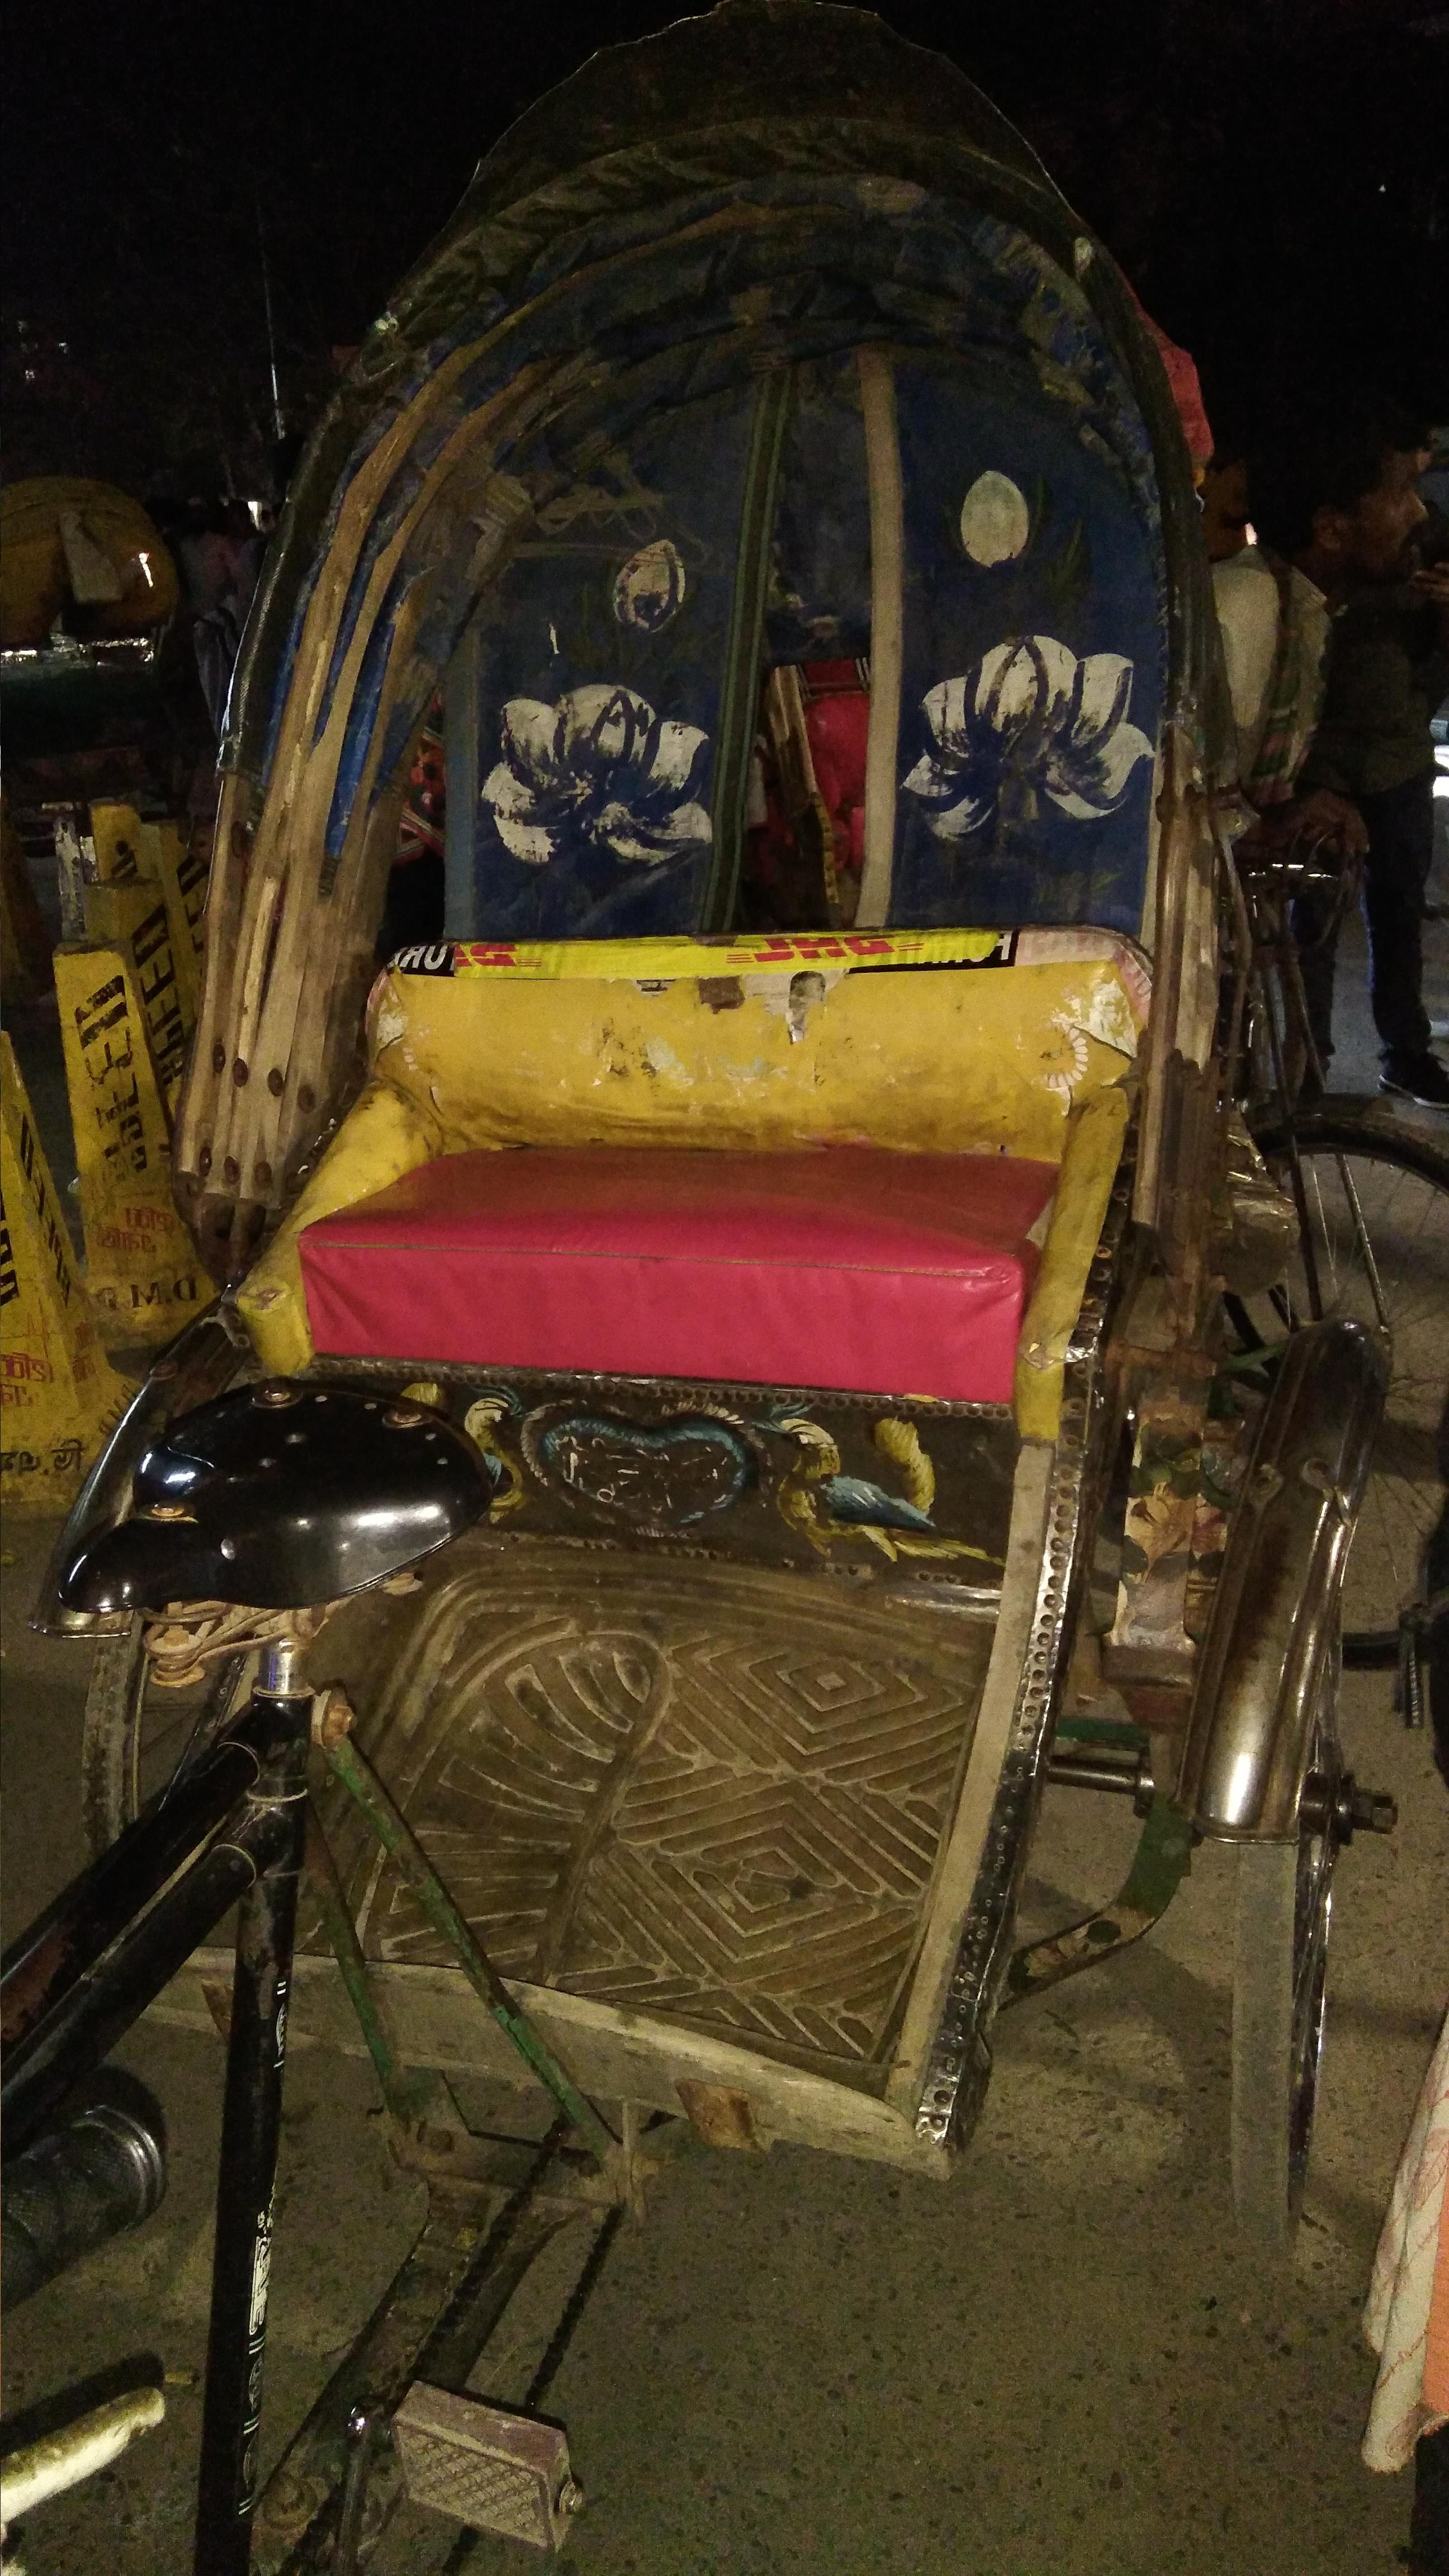Rickshaw: (87, 99, 1346, 2212)
